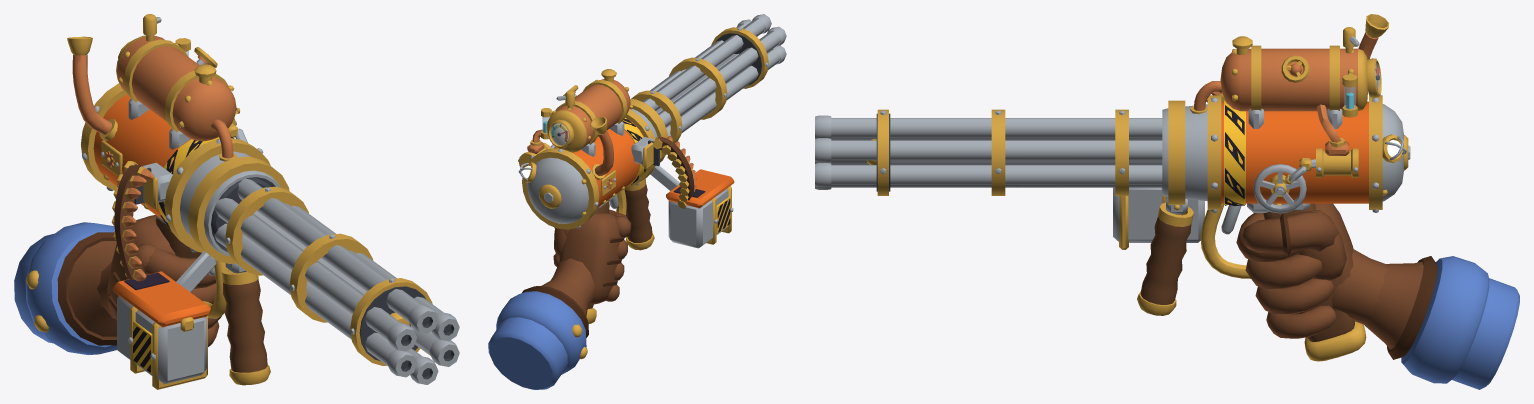
Rendered from vm_gatling.glb.
The picture shows the model from 3 angles, left to right: view 1: azimuth 30°, elevation 25°; view 2: azimuth 150°, elevation 25°; view 3: azimuth 270°, elevation 25°; orthographic projection. The views are drawn at different scales.
Parts seen in each view (by area): view 1: Gatling, Barrels, Glove; view 2: Gatling, Glove, Barrels; view 3: Gatling, Glove, Barrels.
Boxes of the visible parts, <box> form: Gatling: <box>67,14,289,389</box>; Barrels: <box>211,177,459,384</box>; Glove: <box>14,215,221,354</box>; Gatling: <box>518,69,734,323</box>; Glove: <box>488,209,631,389</box>; Barrels: <box>631,14,786,142</box>; Gatling: <box>1113,14,1410,361</box>; Glove: <box>1236,203,1519,389</box>; Barrels: <box>815,109,1162,195</box>.
Size of the model in its own units: 0.2434 by 0.4654 by 0.8259.
